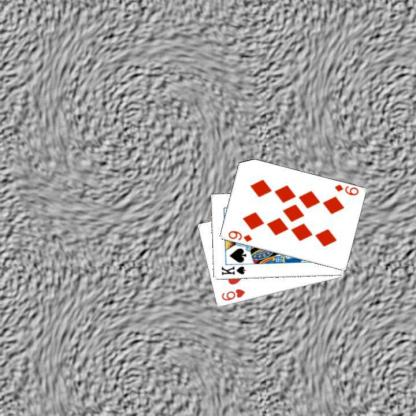6H: (219, 287, 246, 302)
9D: (225, 228, 253, 243), (332, 182, 360, 197)
KS: (218, 264, 247, 277)
